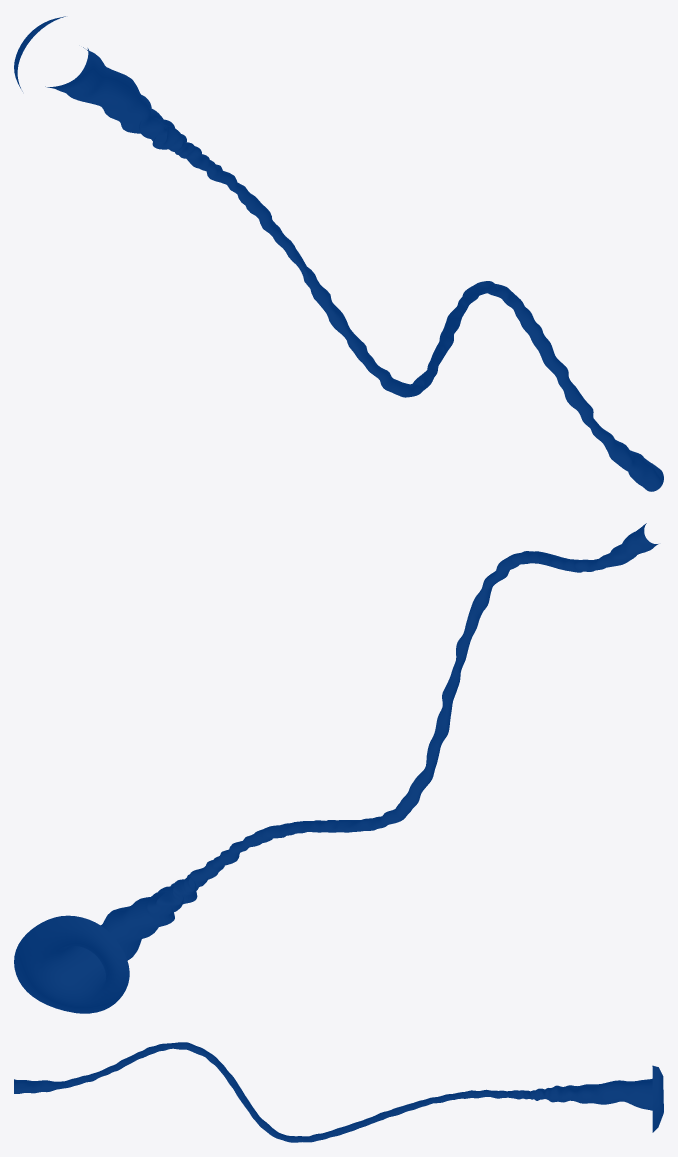
Rendered from Tunnel.glb.
3 renders of one model, top to bottom at view 1: azimuth 30°, elevation 25°; view 2: azimuth 150°, elevation 25°; view 3: azimuth 270°, elevation 25°, orthographic. The views are drawn at different scales.
Parts seen in each view (by area): view 1: Tunel_V2; view 2: Tunel_V2; view 3: Tunel_V2.
Part boxes in pixels (x1,y1,x2,y2): Tunel_V2: [14, 16, 663, 491]; Tunel_V2: [14, 523, 658, 1013]; Tunel_V2: [14, 1042, 663, 1142].
Size of the model in its own units: 56.84 by 83.76 by 493.
